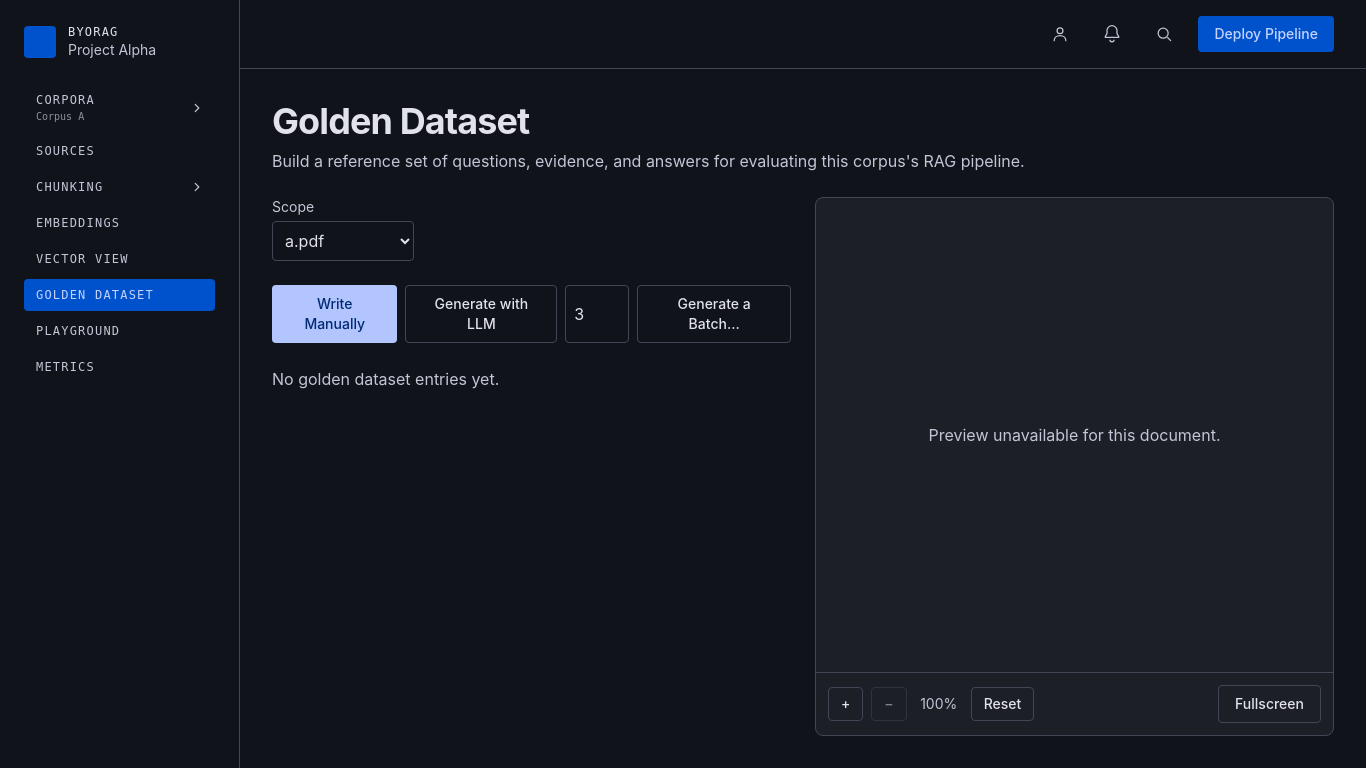
Test: GoldenDatasetScreen — manual creation flow (026-golden-dataset US1) › creates a manual entry end-to-end and shows it in the entry list
expect the text "No golden dataset entries yet." is shown: met, box [272,369,499,389]
Step 1. Click the button "Write Manually" → (335, 314), box [272,285,398,343]
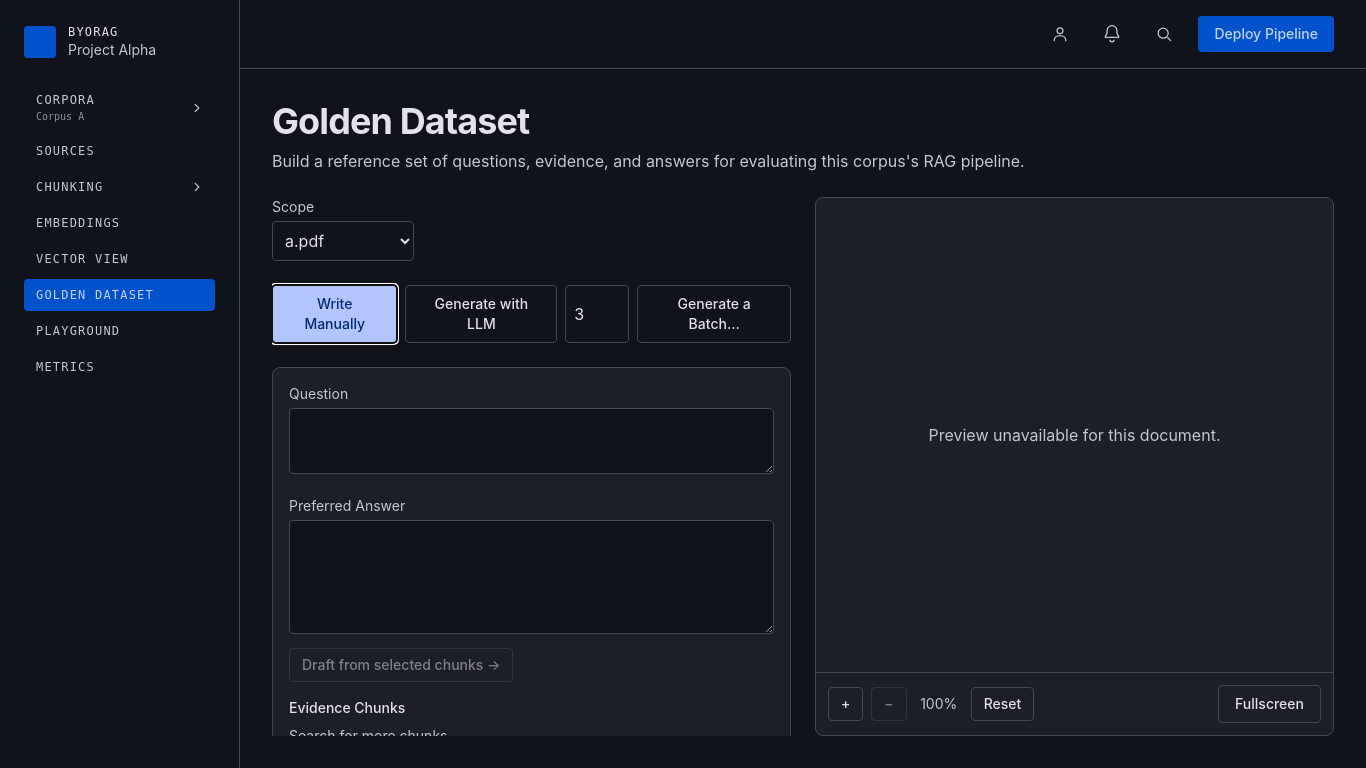
Step 2. Type "What is the notice period?" into the text box labelled "Question" → (532, 441), box [289,408,774,474]
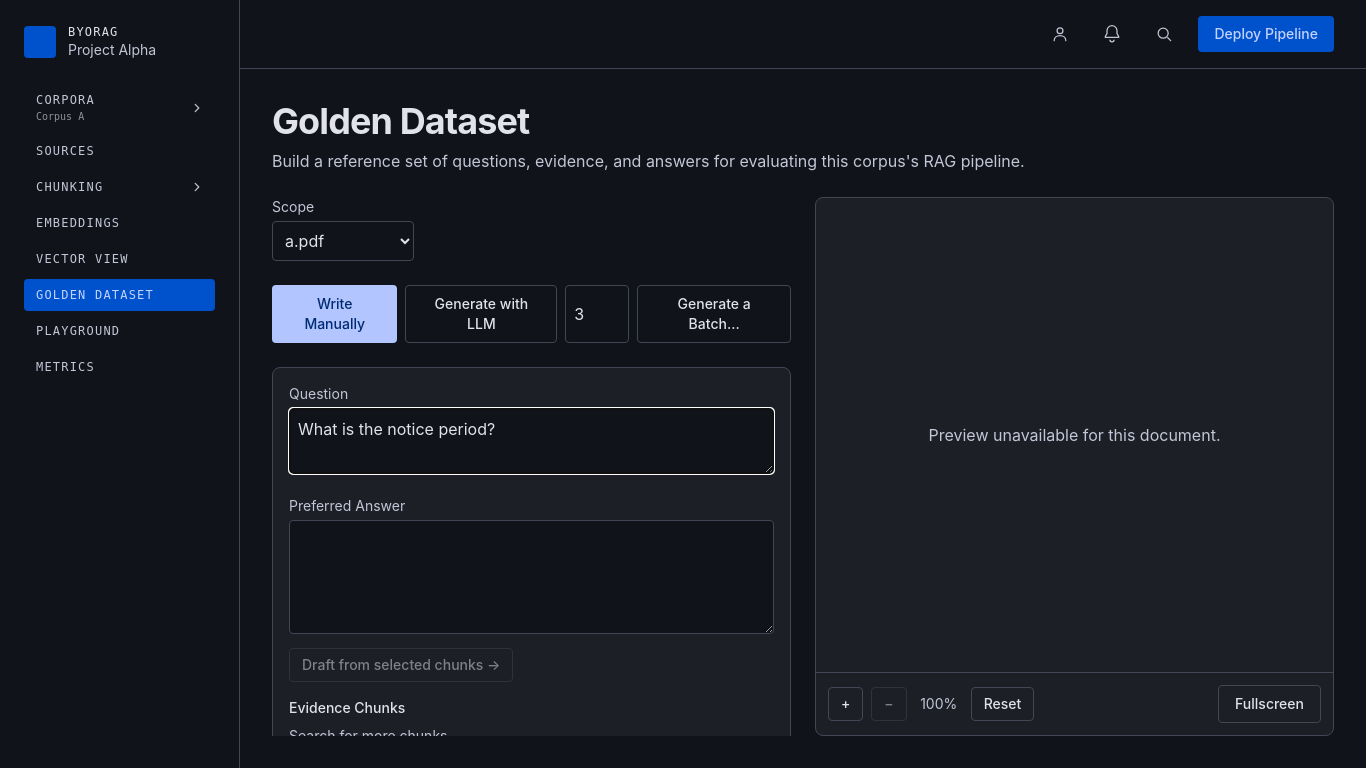
Step 3. Type "30 days." into the text box labelled "Preferred Answer" → (532, 577), box [289,520,774,634]
(page scrolled)
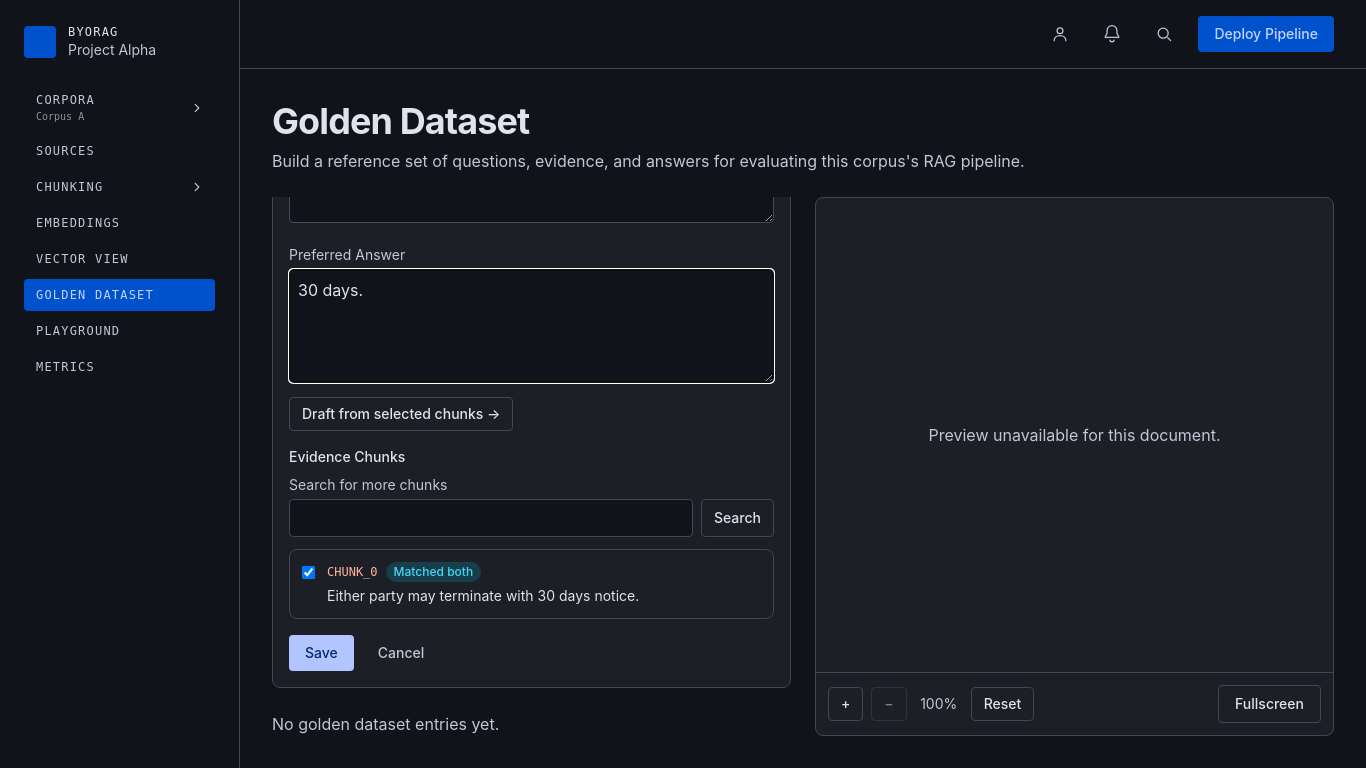
expect the checkbox labelled "30 days notice" is checked: met, box [302,566,315,579]
Step 4. Click the button "Save" → (321, 653), box [289,635,354,671]
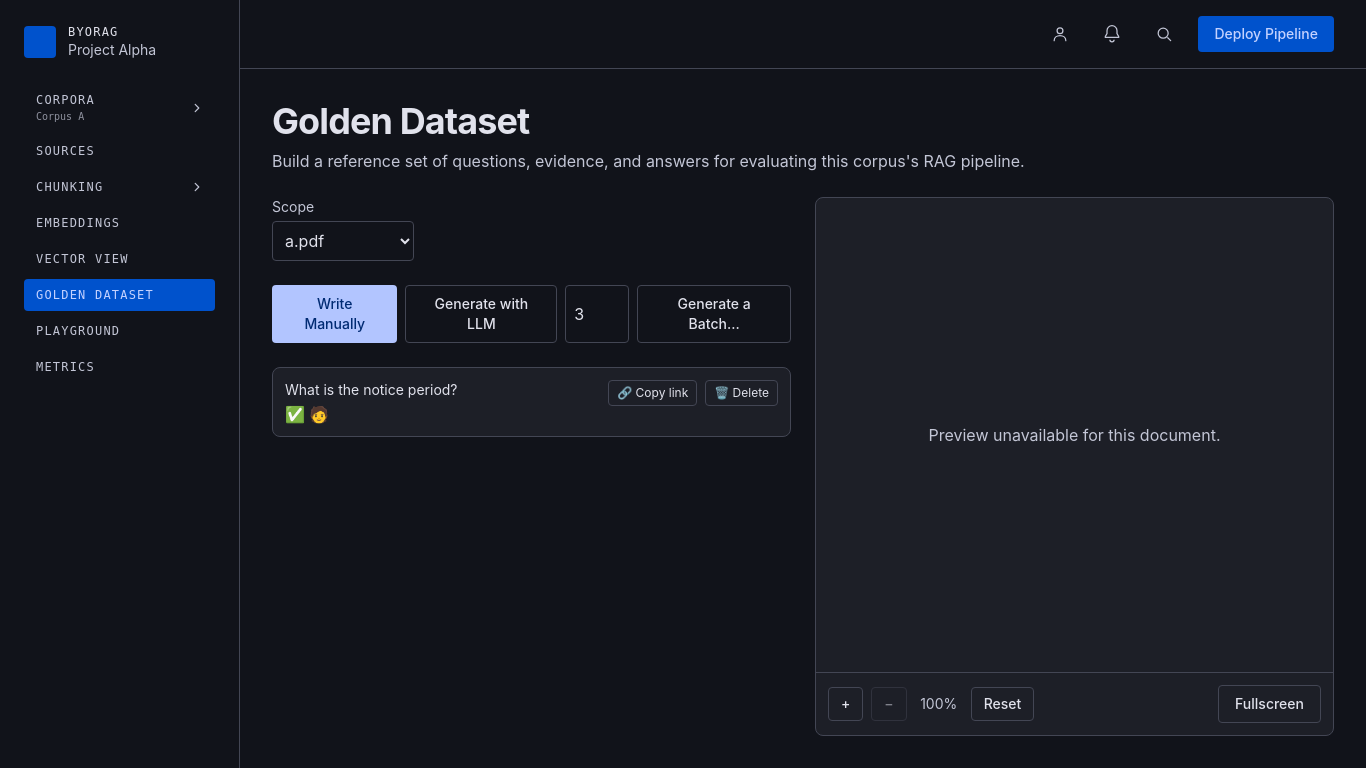
expect the button "What is the notice period?" is shown: met, box [285,380,458,400]
expect the text titled "Approved" is shown: met, box [285,404,305,424]
